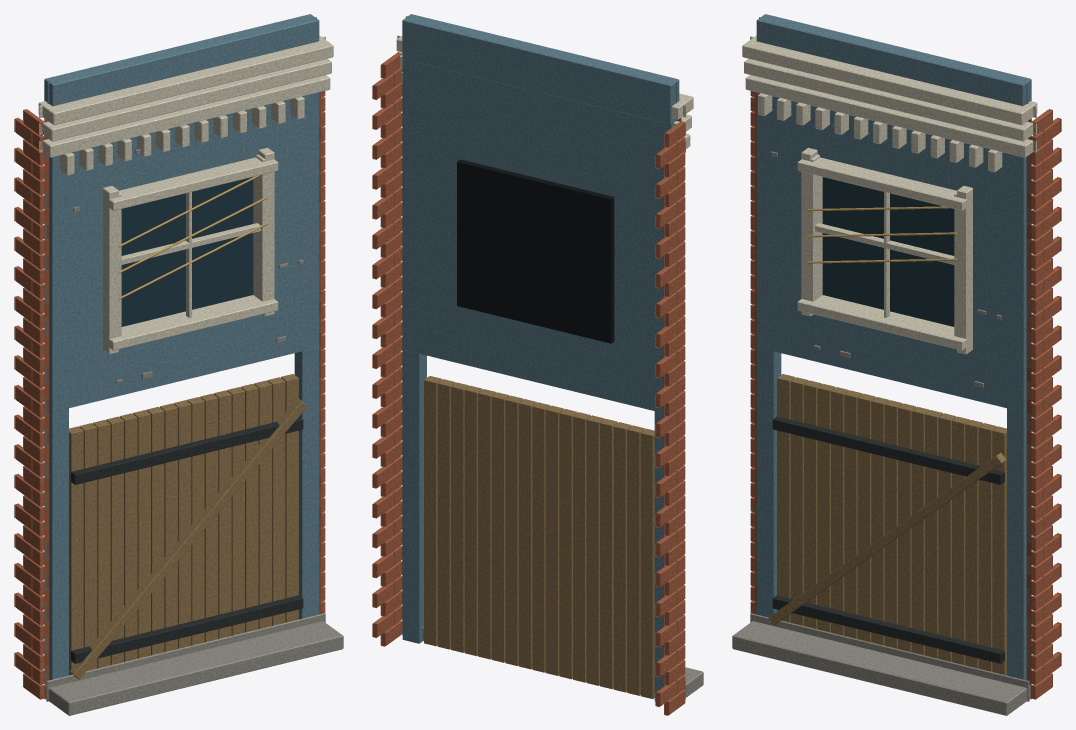
File: WRHS6_lod0.glb
3 views of the same model, side by side, from view 1: azimuth 30°, elevation 25°; view 2: azimuth 150°, elevation 25°; view 3: azimuth 330°, elevation 25° (orthographic).
Visible parts, largest first — view 1: WRHS6_FRONT_LOD0; view 2: WRHS6_FRONT_LOD0; view 3: WRHS6_FRONT_LOD0.
Part boxes in pixels (x1,y1,x2,y2): WRHS6_FRONT_LOD0: [14, 14, 343, 715]; WRHS6_FRONT_LOD0: [372, 14, 703, 715]; WRHS6_FRONT_LOD0: [732, 14, 1061, 715].
Size of the model in its own units: 3.44 by 7.05 by 1.02.
Materials: 13 (10 with a texture image).
